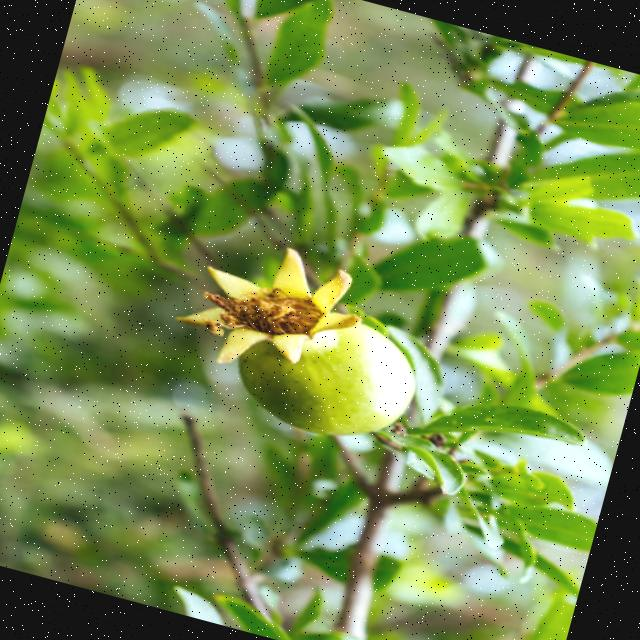Unripe: (149, 223, 440, 457)
